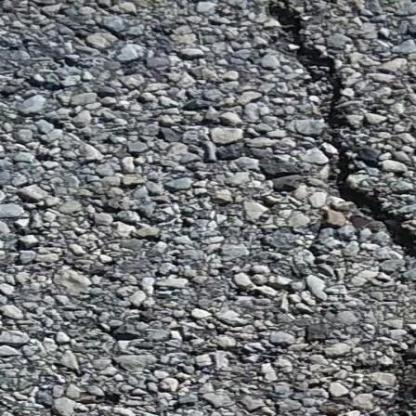Cracks: (268, 0, 415, 268)
